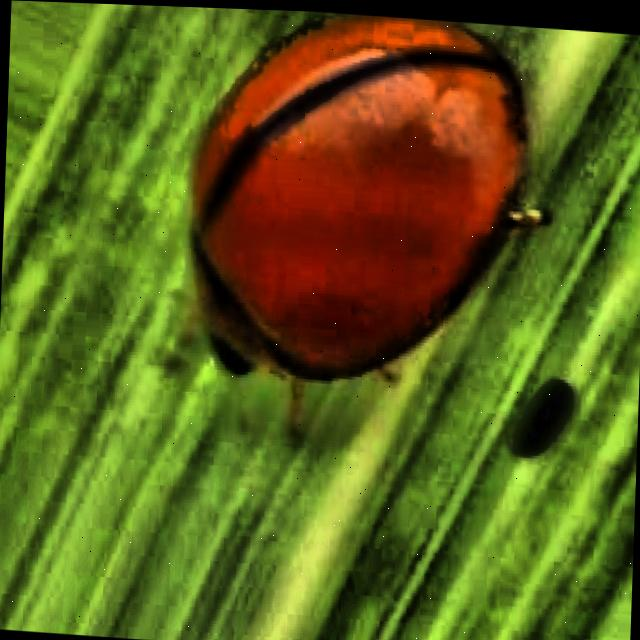Ladybug: (174, 5, 537, 459)
